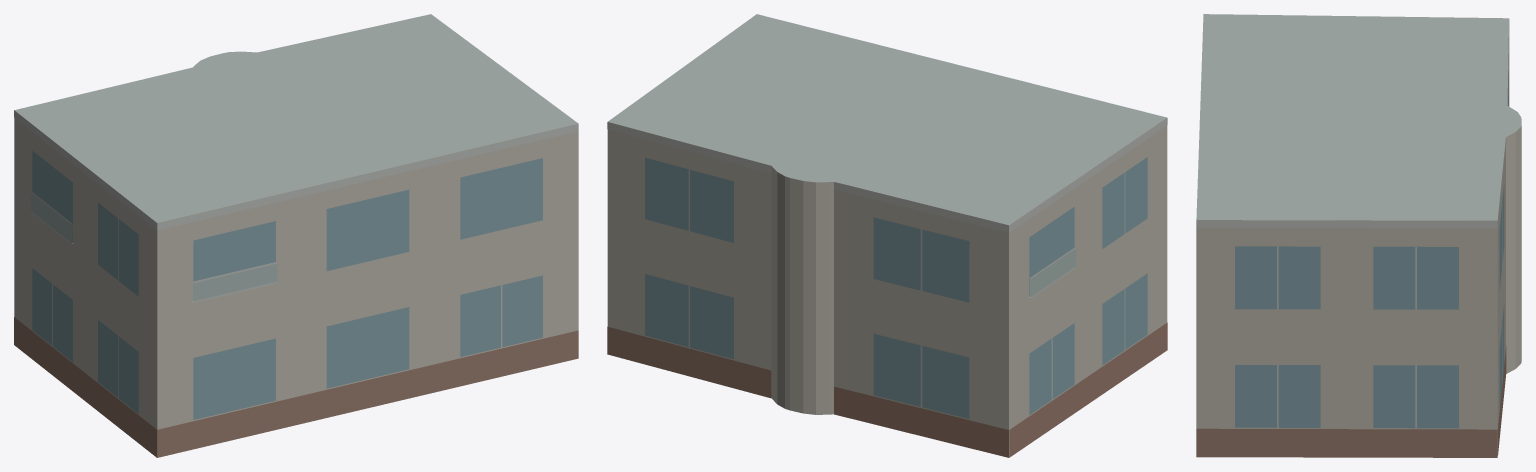
The model's file is survey-upis-32974367.glb.
3 views of the same model, side by side, from view 1: azimuth 30°, elevation 25°; view 2: azimuth 150°, elevation 25°; view 3: azimuth 270°, elevation 25° (orthographic).
Visible parts, largest first — view 1: survey-upis-32974367.tmp; view 2: survey-upis-32974367.tmp; view 3: survey-upis-32974367.tmp.
Part boxes in pixels (box(x1,y1,x2,y2)): survey-upis-32974367.tmp: box(14, 14, 578, 457); survey-upis-32974367.tmp: box(607, 14, 1167, 457); survey-upis-32974367.tmp: box(1196, 14, 1521, 457).
Bounding box in the file's own units: 14.04 × 7.5 × 9.33.
